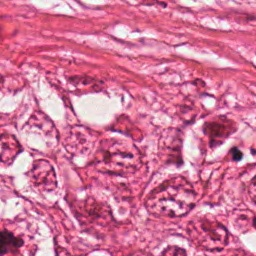mitosis: (114, 134, 124, 144)
